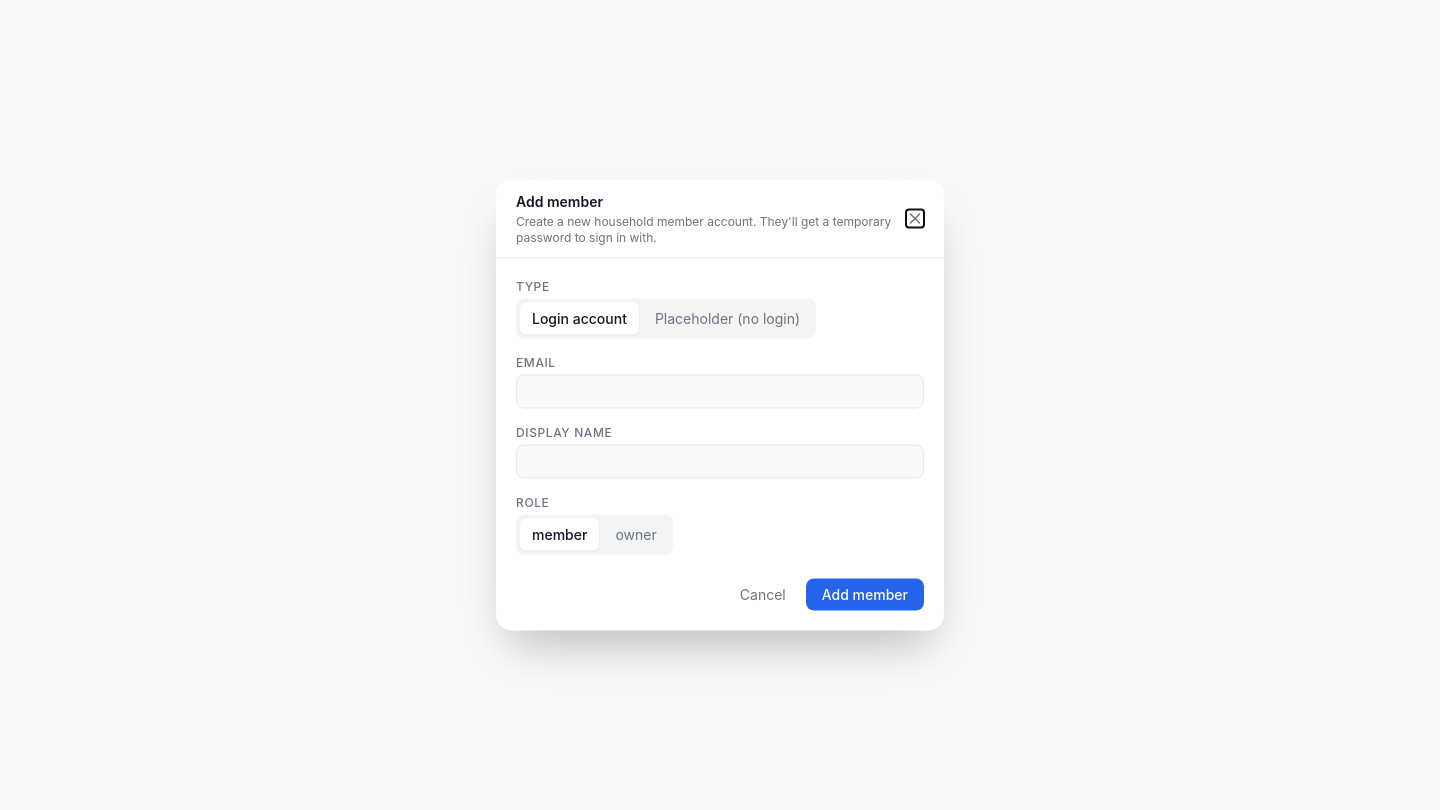
Test: <AddMemberDialog> › surfaces the mutation error inline
In the field labelled "Email": [720, 392] box [516,374,924,408], type "b@example.com"
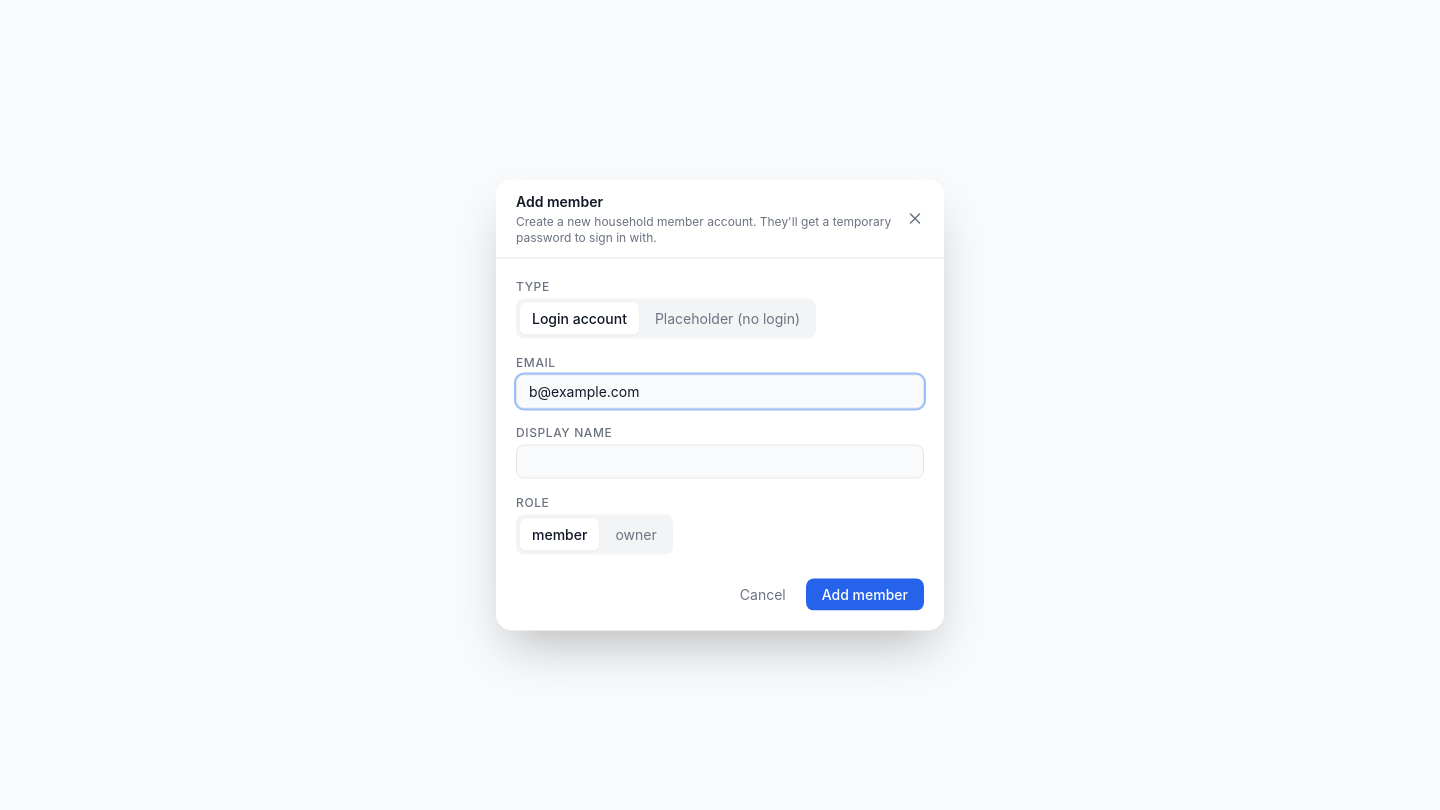
In the field labelled "Display name": [720, 462] box [516,444,924,478], type "Bob"
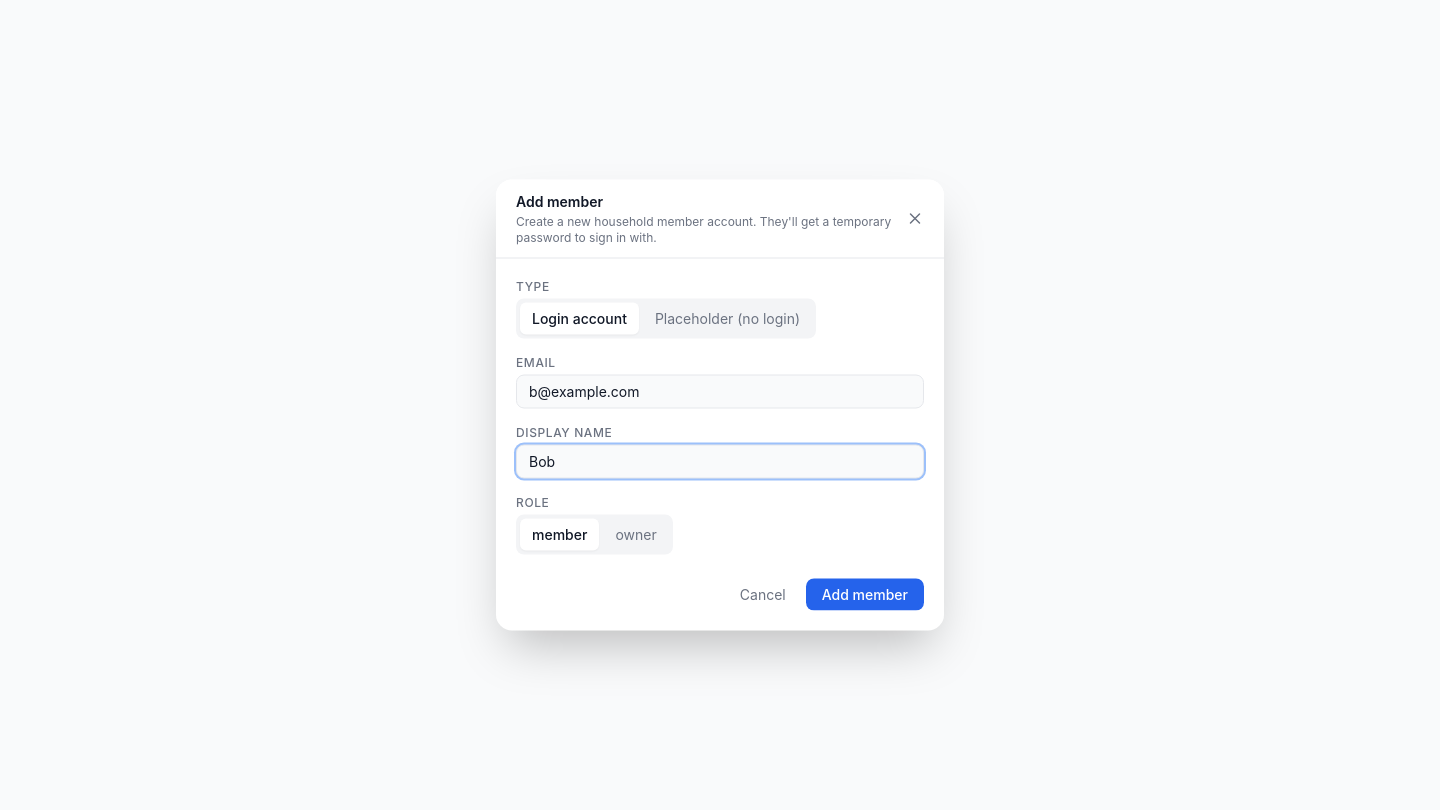
Click the button "Add member": [865, 594] box [806,578,924,610]
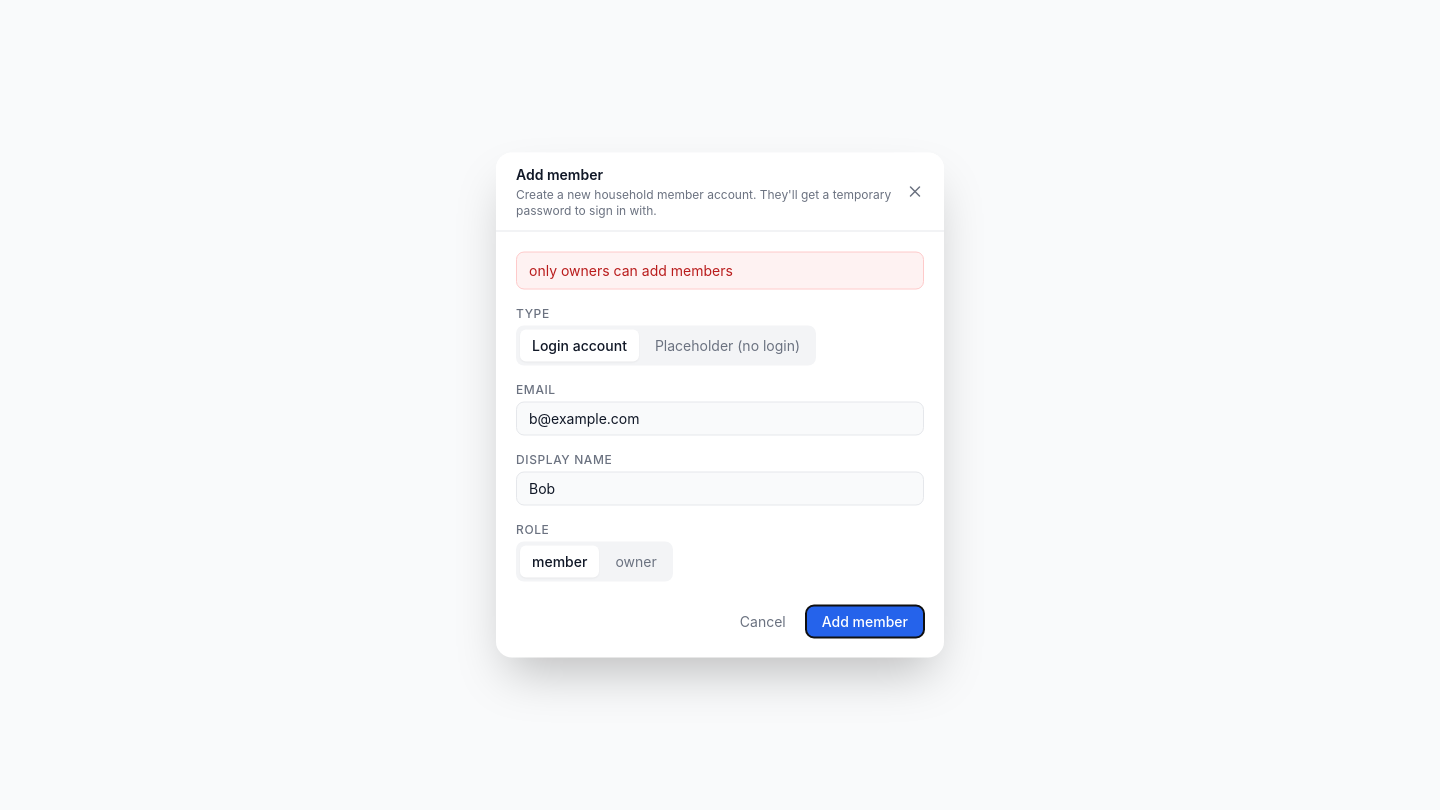
Expected: the message reads "only owners can add members", [529,262,733,278]
